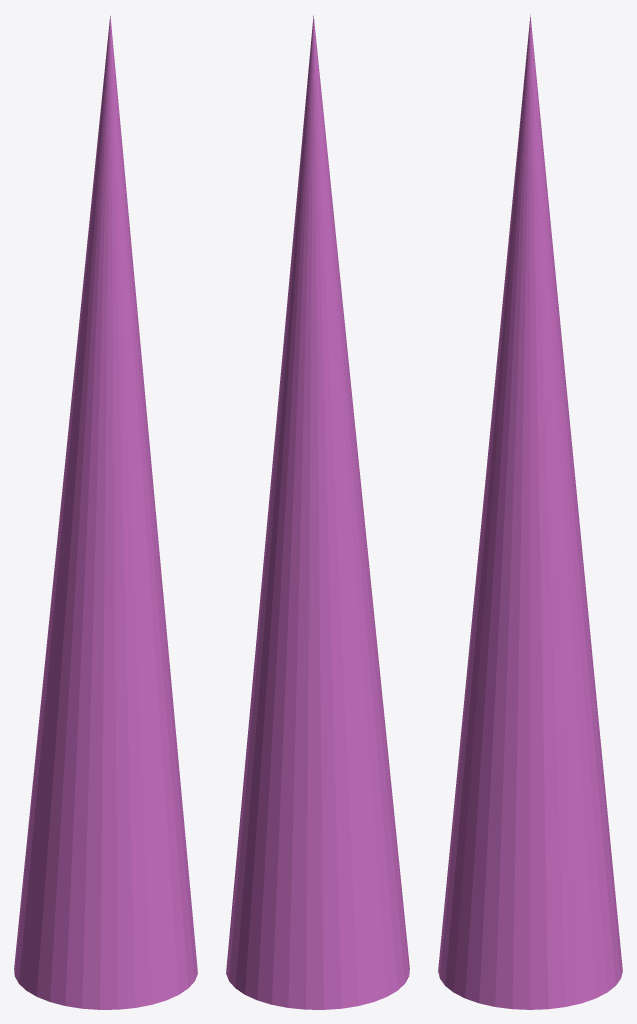
Rendered from Unicorn_Horn.glb.
The picture shows the model from 3 angles, left to right: view 1: azimuth 30°, elevation 25°; view 2: azimuth 150°, elevation 25°; view 3: azimuth 270°, elevation 25°; orthographic projection.
Parts seen in each view (by area): view 1: Cone.001; view 2: Cone.001; view 3: Cone.001.
Boxes of the visible parts, x1,y1,x2,y2 form: Cone.001: (14,15,197,1009); Cone.001: (226,15,409,1009); Cone.001: (438,14,622,1009).
Bounding box in the file's own units: 2 × 11.45 × 2.
